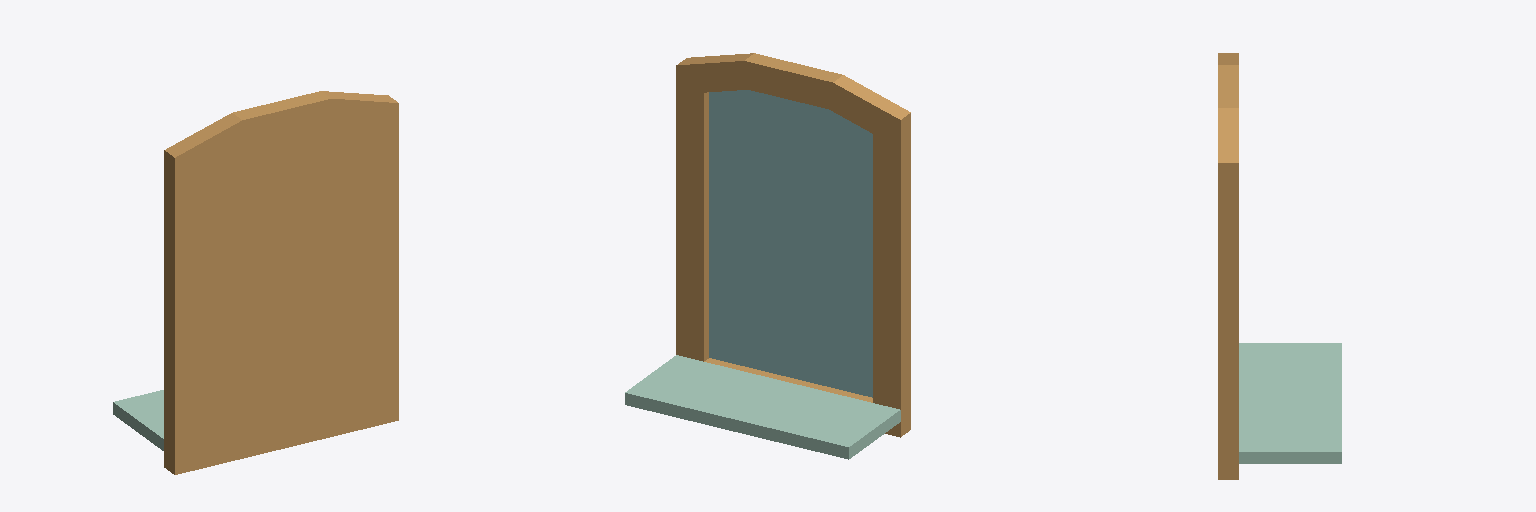
The model's file is bathroomMirror.obj.
The picture shows the model from 3 angles: view 1: azimuth 30°, elevation 25°; view 2: azimuth 150°, elevation 25°; view 3: azimuth 270°, elevation 25°; orthographic projection.
Parts seen in each view (by area): view 1: bathroomMirror; view 2: bathroomMirror; view 3: bathroomMirror.
Part boxes in pixels (bbox=[...]): bathroomMirror: bbox=[113, 91, 398, 474]; bathroomMirror: bbox=[625, 53, 910, 459]; bathroomMirror: bbox=[1218, 53, 1341, 479].
Size of the model in its own units: 3.01 by 4.35 by 1.44.